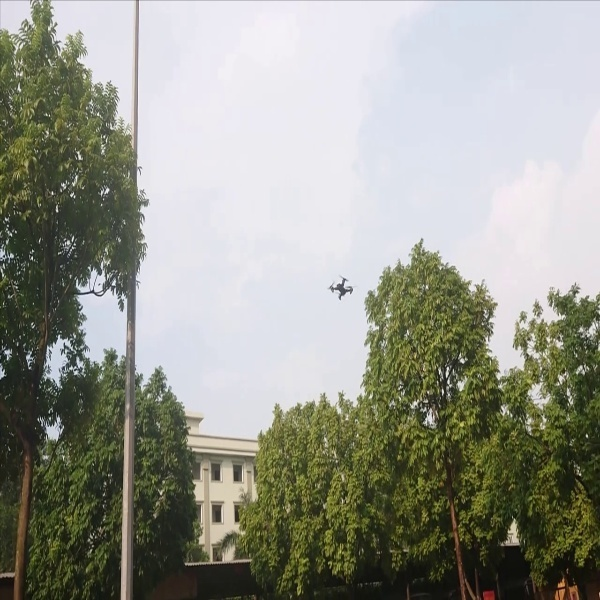drone: (323, 267, 357, 302)
